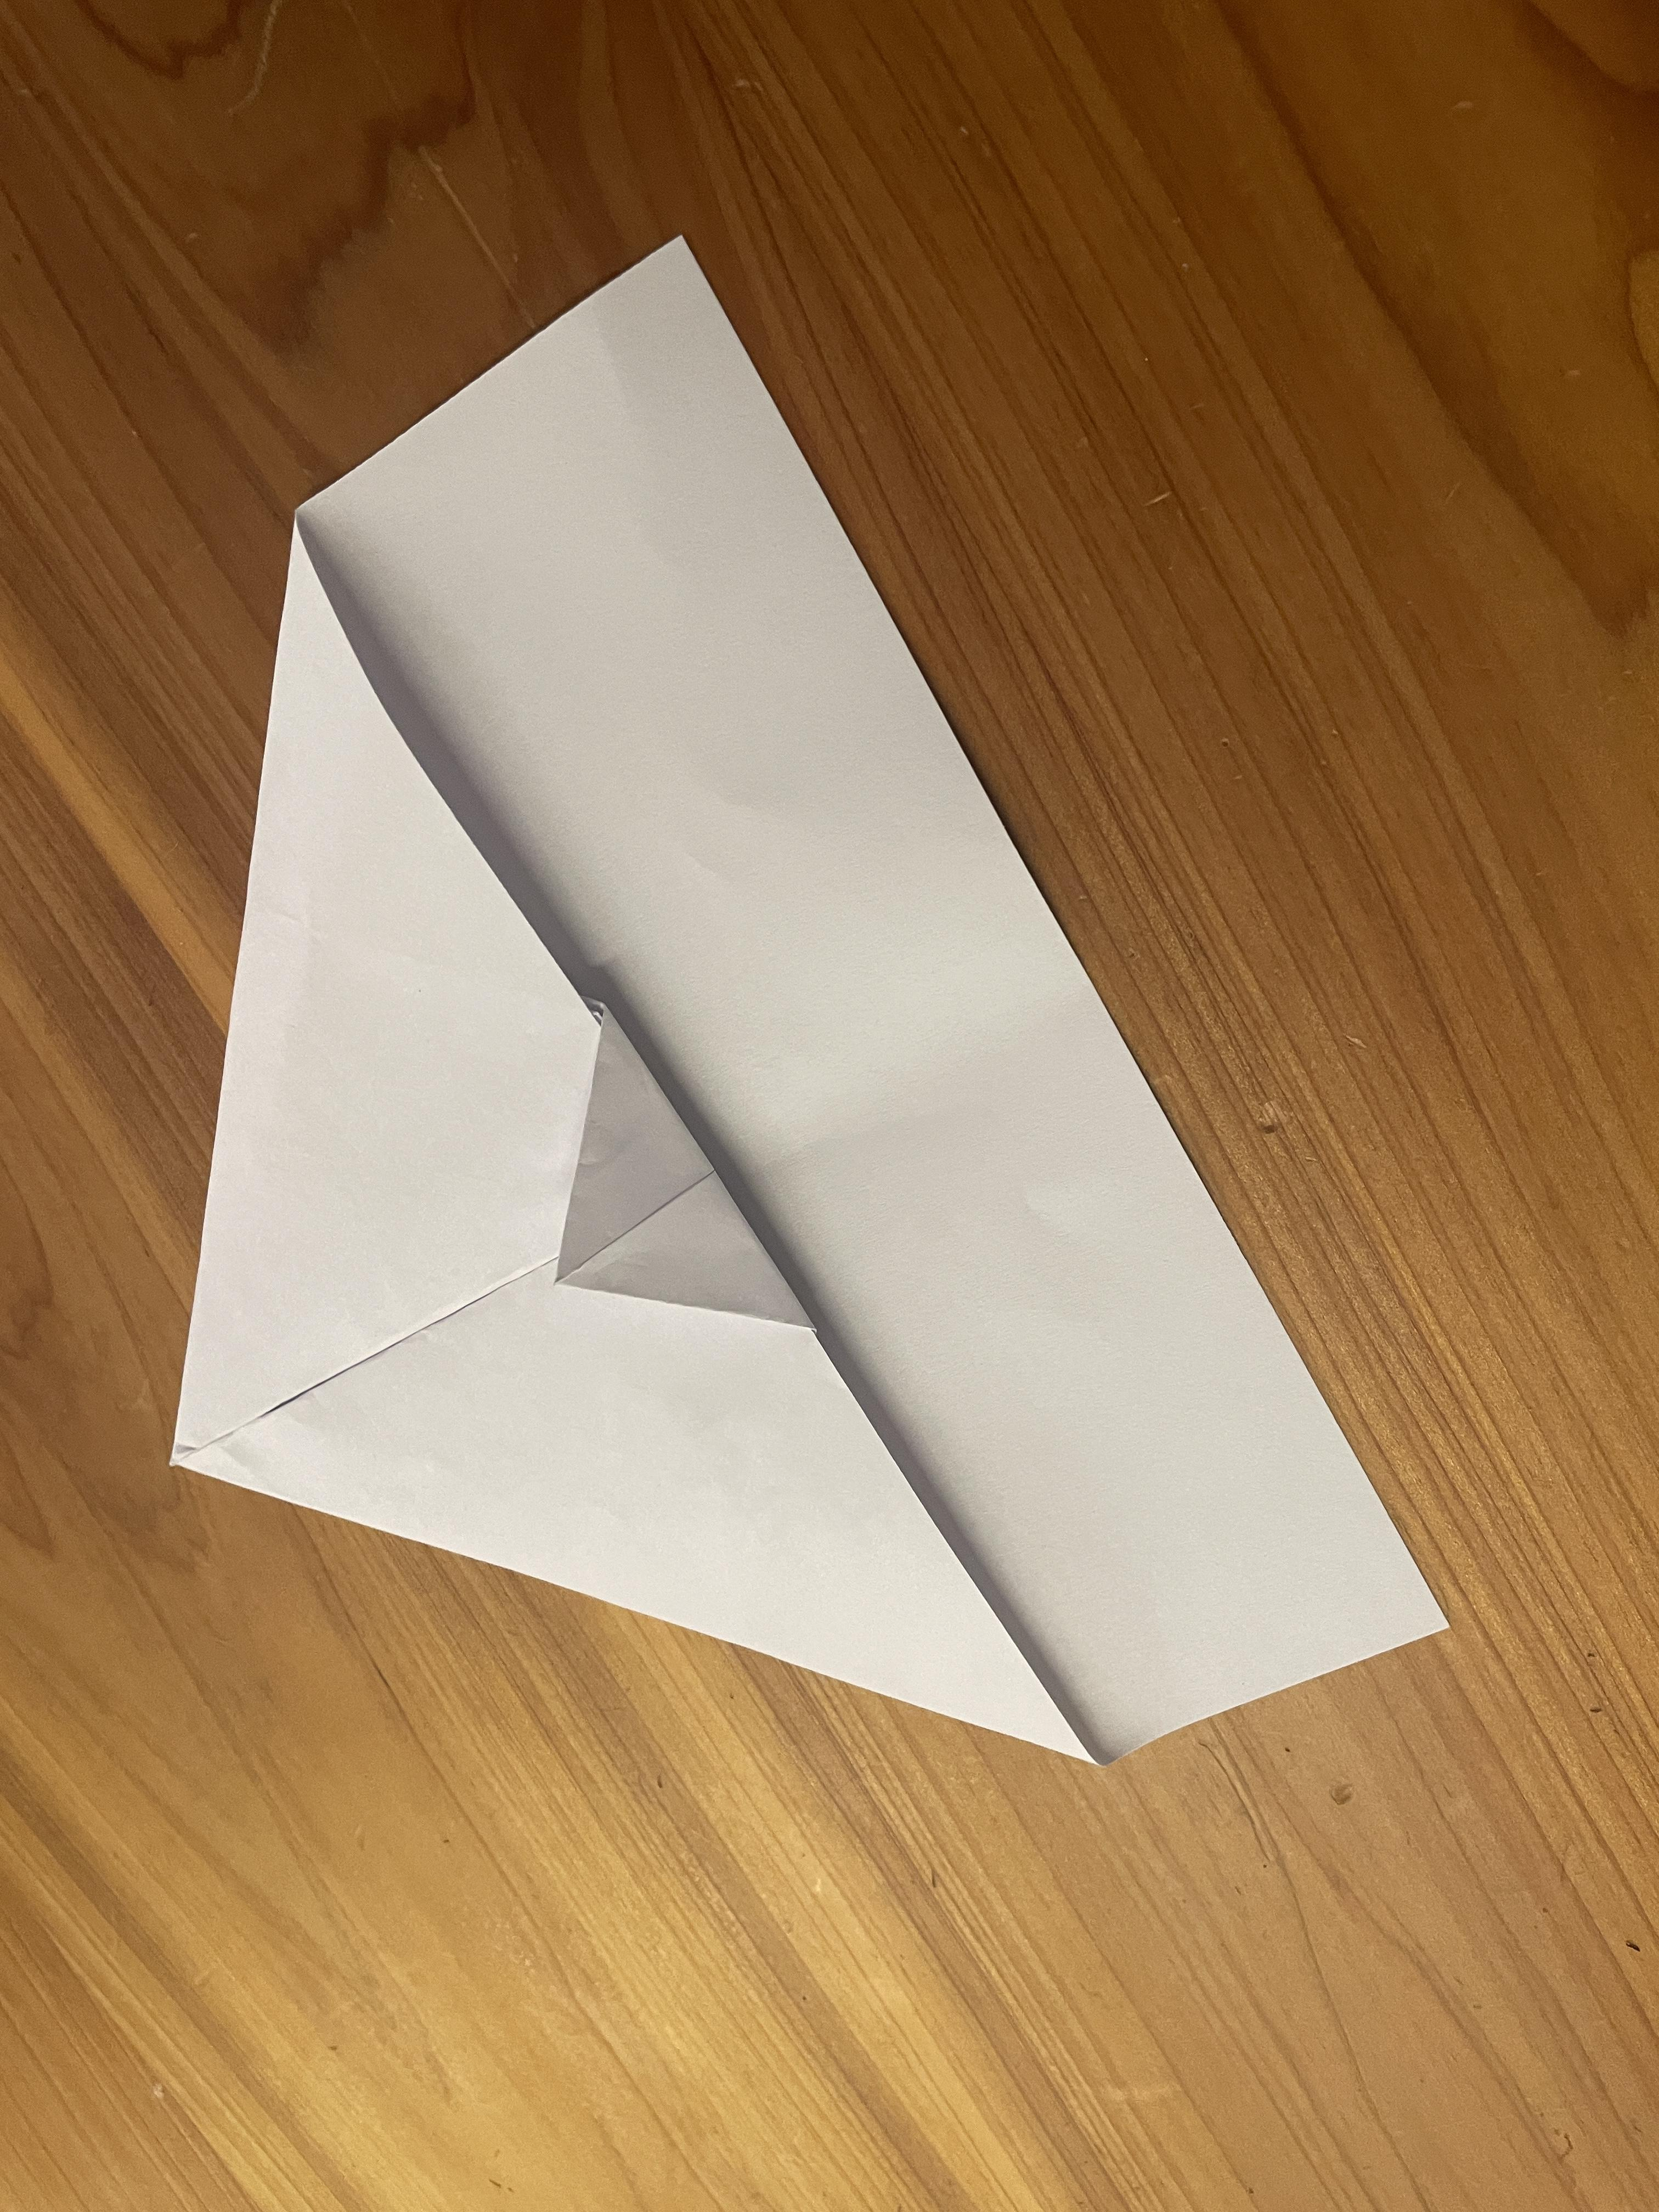shape_2: (77, 105, 1504, 2020)
